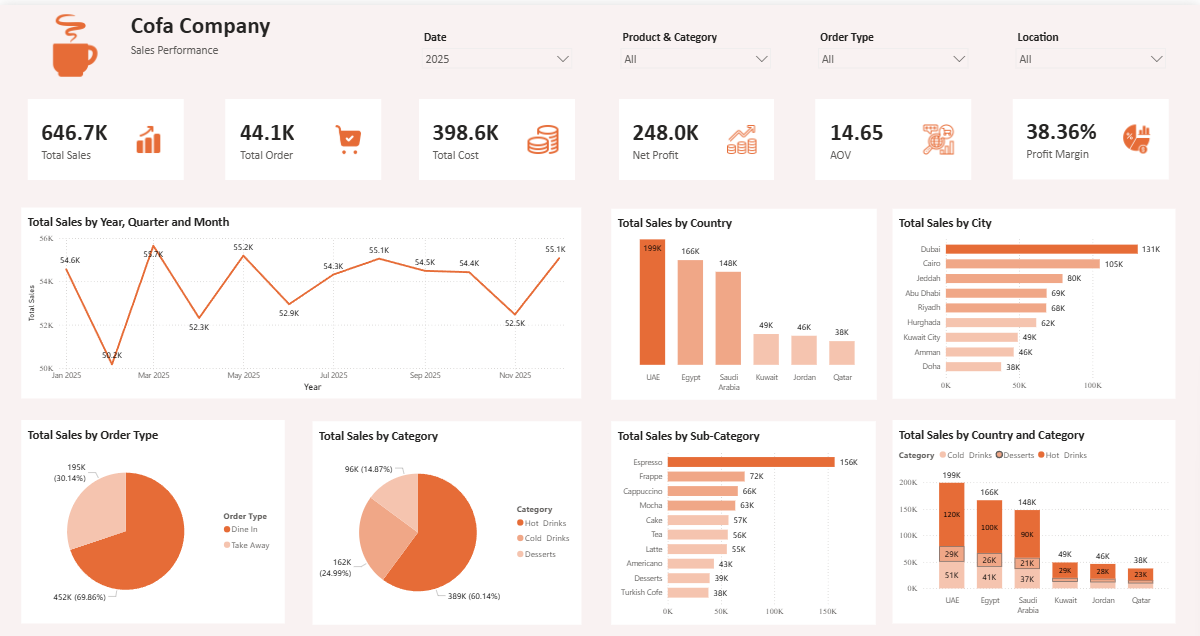

What the dashboard file says about the page in this screenshot:
{"tool":"powerbi","page":{"name":"Sales Performance","canvas":[1920,1080],"ordinal":0},"visuals":[{"type":"cardVisual","title":"Total Sales","fields":{"Data":["_Measures.Total Sales"]},"box":[35,139.9,270.6,150.9],"z":0},{"type":"cardVisual","title":"Total Order","fields":{"Data":["_Measures.Total Order"]},"box":[349.7,139.9,270.6,150.9],"z":1000},{"type":"cardVisual","title":"Total Cost","fields":{"Data":["_Measures.Total Cost"]},"box":[660.7,139.9,270.6,150.9],"z":2000},{"type":"cardVisual","title":"Net Profit","fields":{"Data":["_Measures.Net Profit"]},"box":[979.1,139.9,268.7,150.9],"z":3000},{"type":"cardVisual","title":"AOV","fields":{"Data":["_Measures.AOV"]},"box":[1293.9,139.9,270.6,150.9],"z":4000},{"type":"cardVisual","title":"Profit Margin","fields":{"Data":["_Measures.Profit Margin"]},"box":[1610.4,140.7,270.6,149.1],"z":5000},{"type":"lineChart","fields":{"Category":["Orders.Date.Variation.Date Hierarchy.Year","Orders.Date.Variation.Date Hierarchy.Quarter","Orders.Date.Variation.Date Hierarchy.Month"],"Y":["_Measures.Total Sales"]},"box":[35,323.9,896.3,305.5],"z":6000},{"type":"clusteredColumnChart","fields":{"Category":["Branches.Country"],"Y":["_Measures.Total Sales"]},"box":[977.3,325.8,425.2,305.5],"z":7000},{"type":"clusteredBarChart","fields":{"Category":["Branches.City"],"Y":["_Measures.Total Sales"]},"box":[1428.2,325.3,452.8,303.7],"z":8000},{"type":"pieChart","fields":{"Category":["Orders.Order Type"],"Y":["_Measures.Total Sales"]},"box":[35,664.4,421.5,325.8],"z":9000},{"type":"pieChart","fields":{"Category":["Products.Category"],"Y":["_Measures.Total Sales"]},"box":[500.6,666.3,430.7,325.8],"z":10000},{"type":"clusteredBarChart","fields":{"Category":["Products.Sub-Category"],"Y":["_Measures.Total Sales"]},"box":[977.3,666.3,423.3,325.8],"z":11000},{"type":"columnChart","fields":{"Category":["Branches.Country"],"Series":["Products.Category"],"Y":["_Measures.Total Sales"]},"box":[1428.2,664.4,452.8,325.8],"z":12000},{"type":"slicer","title":"Date","fields":{"Values":["Orders.Date.Variation.Date Hierarchy.Year","Orders.Date.Variation.Date Hierarchy.Quarter","Orders.Date.Variation.Date Hierarchy.Month","Orders.Date.Variation.Date Hierarchy.Day"]},"box":[660.7,30,270.6,75],"z":13000},{"type":"slicer","title":"Category","fields":{"Values":["Products.Category","Products.Sub-Category","Products.Product"]},"box":[977.3,30,270.6,75],"z":14000},{"type":"slicer","fields":{"Values":["Orders.Order Type"]},"box":[1293.9,29.7,270.6,75.5],"z":15000},{"type":"slicer","fields":{"Values":["Branches.Location"]},"box":[1610.4,29.7,270.6,75.5],"z":16000},{"type":"image","box":[35.7,10,168.6,110],"z":16001},{"type":"textbox","title":"Airport Coffee Company","box":[204,30,380,90],"z":16002}]}

Visuals, with their boxes on the page's 1920x1080 design canvas (x1, y1, x2, y2). These are canvas units, not pixel positions in the 1200x636 screenshot, which may show the page scaled, cropped or inside an application window:
"Total Sales" cardVisual: rect(35, 140, 306, 291)
"Total Order" cardVisual: rect(350, 140, 620, 291)
"Total Cost" cardVisual: rect(661, 140, 931, 291)
"Net Profit" cardVisual: rect(979, 140, 1248, 291)
"AOV" cardVisual: rect(1294, 140, 1564, 291)
"Profit Margin" cardVisual: rect(1610, 141, 1881, 290)
lineChart - Orders.Date.Variation.Date Hierarchy.Year x Orders.Date.Variation.Date Hierarchy.Quarter: rect(35, 324, 931, 629)
clusteredColumnChart - Branches.Country x _Measures.Total Sales: rect(977, 326, 1402, 631)
clusteredBarChart - Branches.City x _Measures.Total Sales: rect(1428, 325, 1881, 629)
pieChart - Orders.Order Type x _Measures.Total Sales: rect(35, 664, 456, 990)
pieChart - Products.Category x _Measures.Total Sales: rect(501, 666, 931, 992)
clusteredBarChart - Products.Sub-Category x _Measures.Total Sales: rect(977, 666, 1401, 992)
columnChart - Branches.Country x Products.Category: rect(1428, 664, 1881, 990)
"Date" slicer: rect(661, 30, 931, 105)
"Category" slicer: rect(977, 30, 1248, 105)
slicer - Orders.Order Type: rect(1294, 30, 1564, 105)
slicer - Branches.Location: rect(1610, 30, 1881, 105)
image: rect(36, 10, 204, 120)
"Airport Coffee Company" textbox: rect(204, 30, 584, 120)
